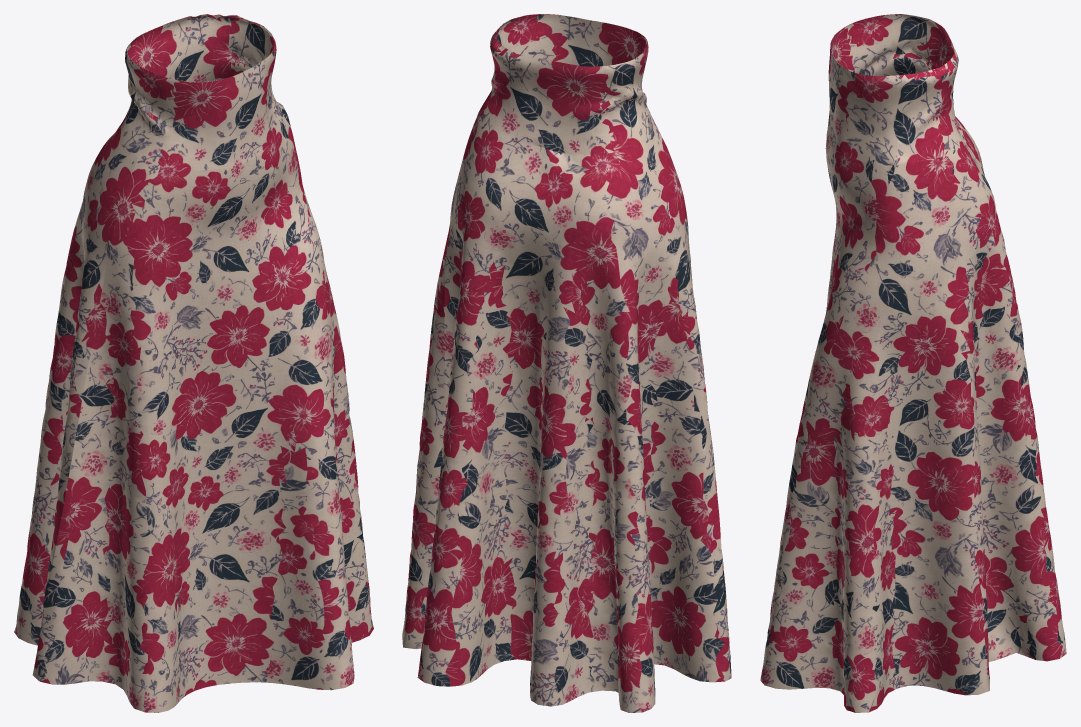
File: Robe2-1.glb
3 renders of one model, left to right at view 1: azimuth 30°, elevation 25°; view 2: azimuth 150°, elevation 25°; view 3: azimuth 270°, elevation 25°, orthographic. The views are drawn at different scales.
Visible parts, largest first — view 1: Object_3.001; view 2: Object_3.001; view 3: Object_3.001.
Boxes of the visible parts, <box> form: Object_3.001: <box>14,14,373,712</box>; Object_3.001: <box>402,14,731,712</box>; Object_3.001: <box>760,14,1066,712</box>.
Size of the model in its own units: 0.5299 by 1 by 0.4566.
Materials: 1 (1 with a texture image).
